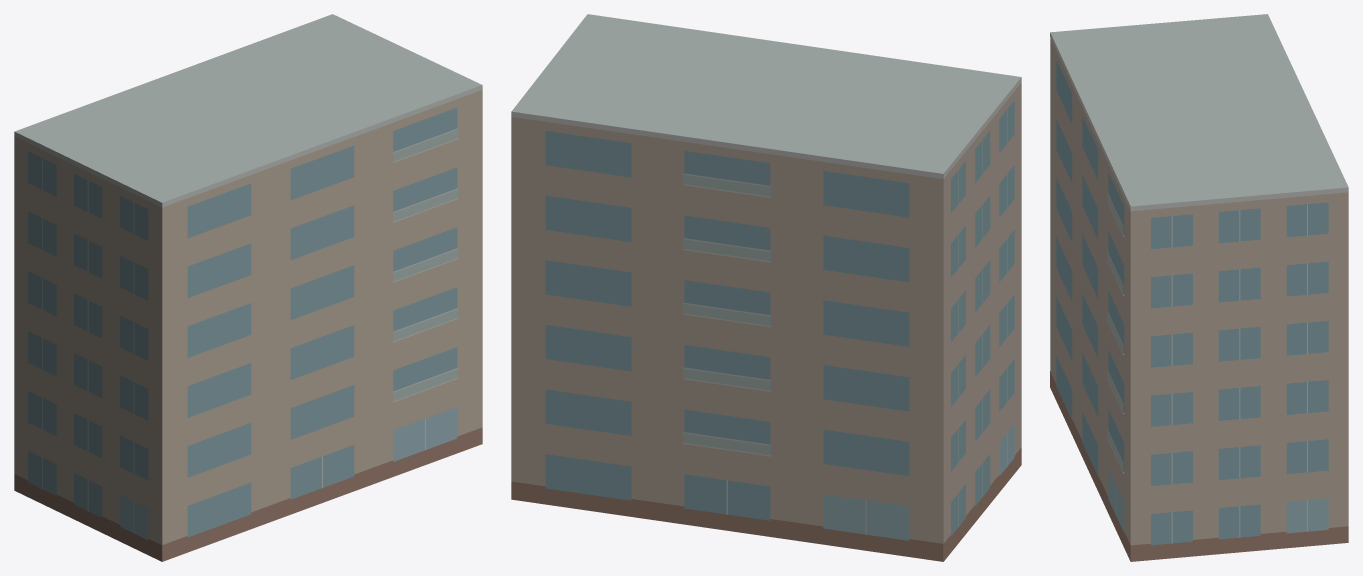
Rendered from survey-upis-32697678.glb.
3 views of the same model, side by side, from view 1: azimuth 30°, elevation 25°; view 2: azimuth 150°, elevation 25°; view 3: azimuth 270°, elevation 25° (orthographic). The views are drawn at different scales.
Parts seen in each view (by area): view 1: survey-upis-32697678.tmp; view 2: survey-upis-32697678.tmp; view 3: survey-upis-32697678.tmp.
Part boxes in pixels (box(x1,y1,x2,y2)): survey-upis-32697678.tmp: box(14, 14, 482, 561); survey-upis-32697678.tmp: box(511, 14, 1021, 561); survey-upis-32697678.tmp: box(1050, 14, 1348, 561).
Size of the model in its own units: 21.05 by 18.1 by 13.79.
